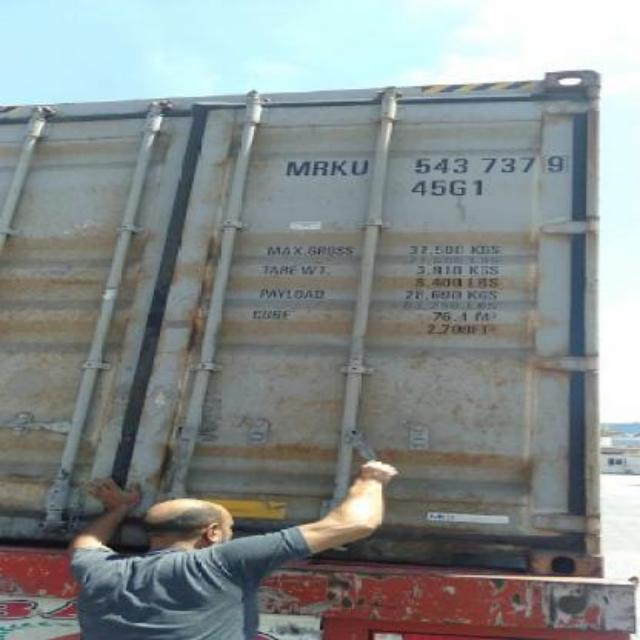3: (448, 154, 469, 176), (500, 154, 520, 176)
4: (434, 157, 454, 173)
5: (411, 157, 432, 173)
7: (518, 154, 540, 176), (476, 157, 498, 173)
9: (548, 157, 568, 173)
K: (326, 160, 350, 176)
M: (278, 160, 310, 176)
R: (312, 160, 330, 176)
U: (346, 158, 370, 178)
